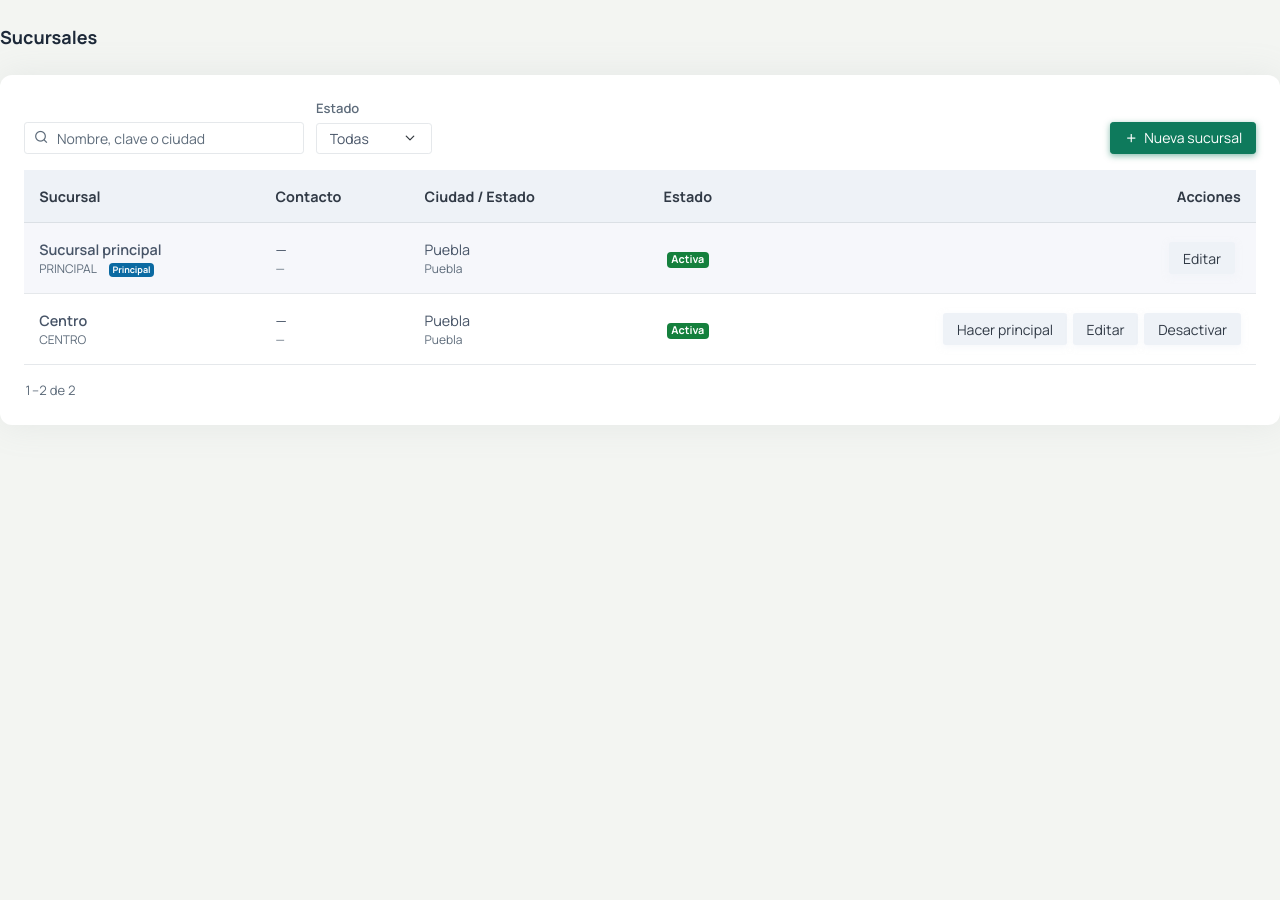
Test case: BranchesList › fills the point with where the owner stands, and says what to do when the browser does not tell (Fase 24G)
Click the button with aria-label "Editar Centro" at (1106, 329), box [1073,313,1138,345]
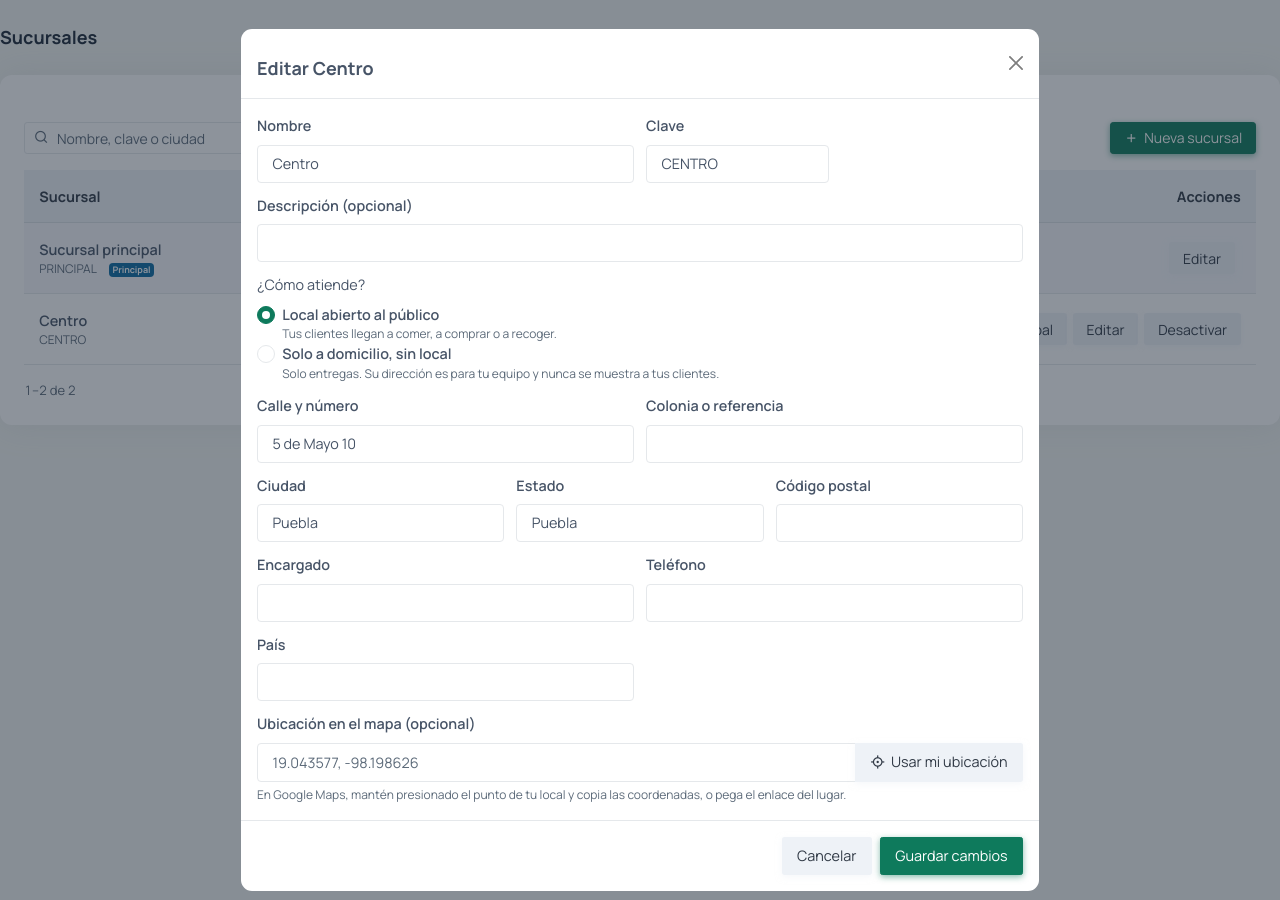
Click the button "Usar mi ubicación" at (939, 762), box [855,743,1023,782]
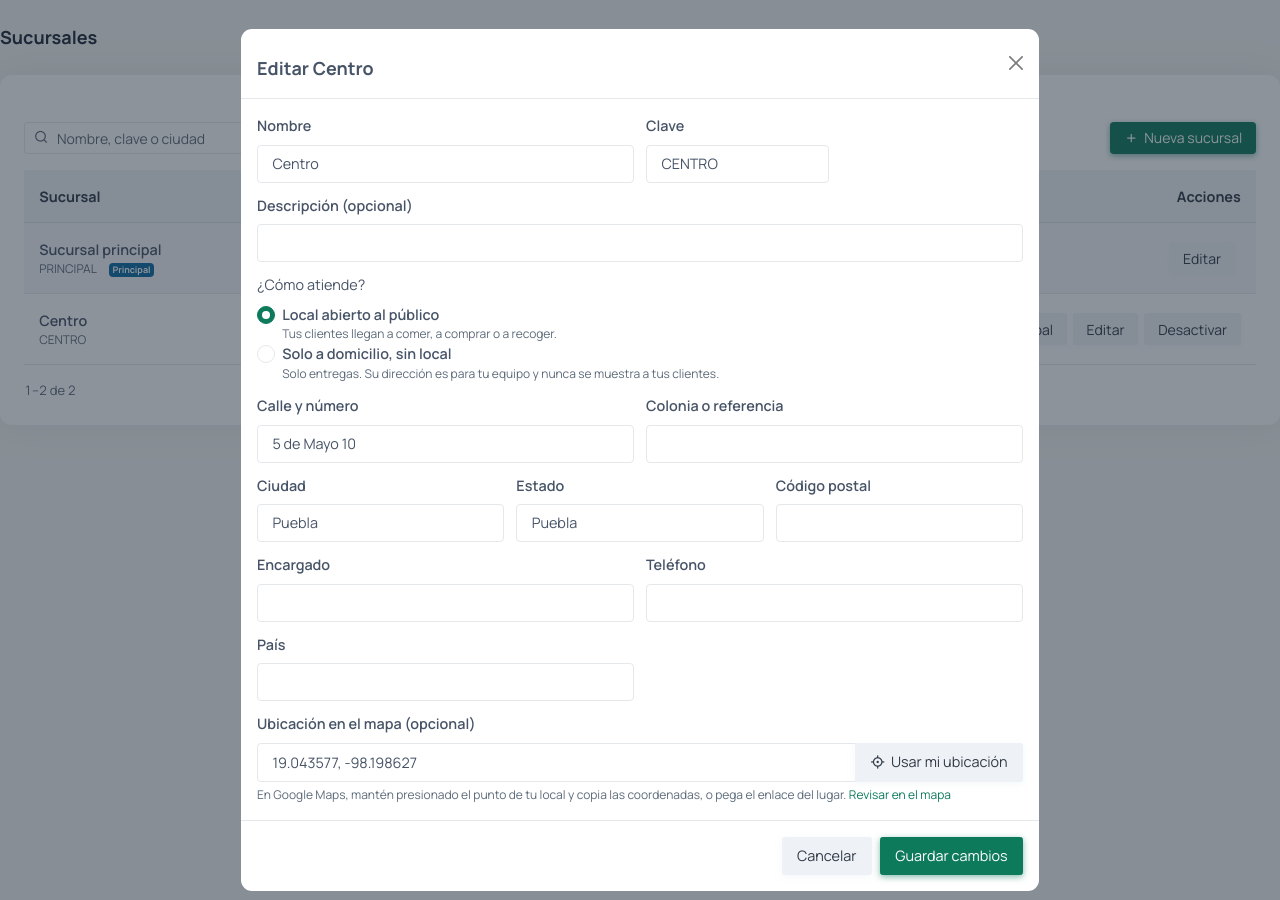
Check: the field labelled "Ubicación en el mapa (opcional)" holds "19.043577, -98.198627", box [257,743,856,782]
Click the button "Usar mi ubicación" at (939, 762), box [855,743,1023,782]
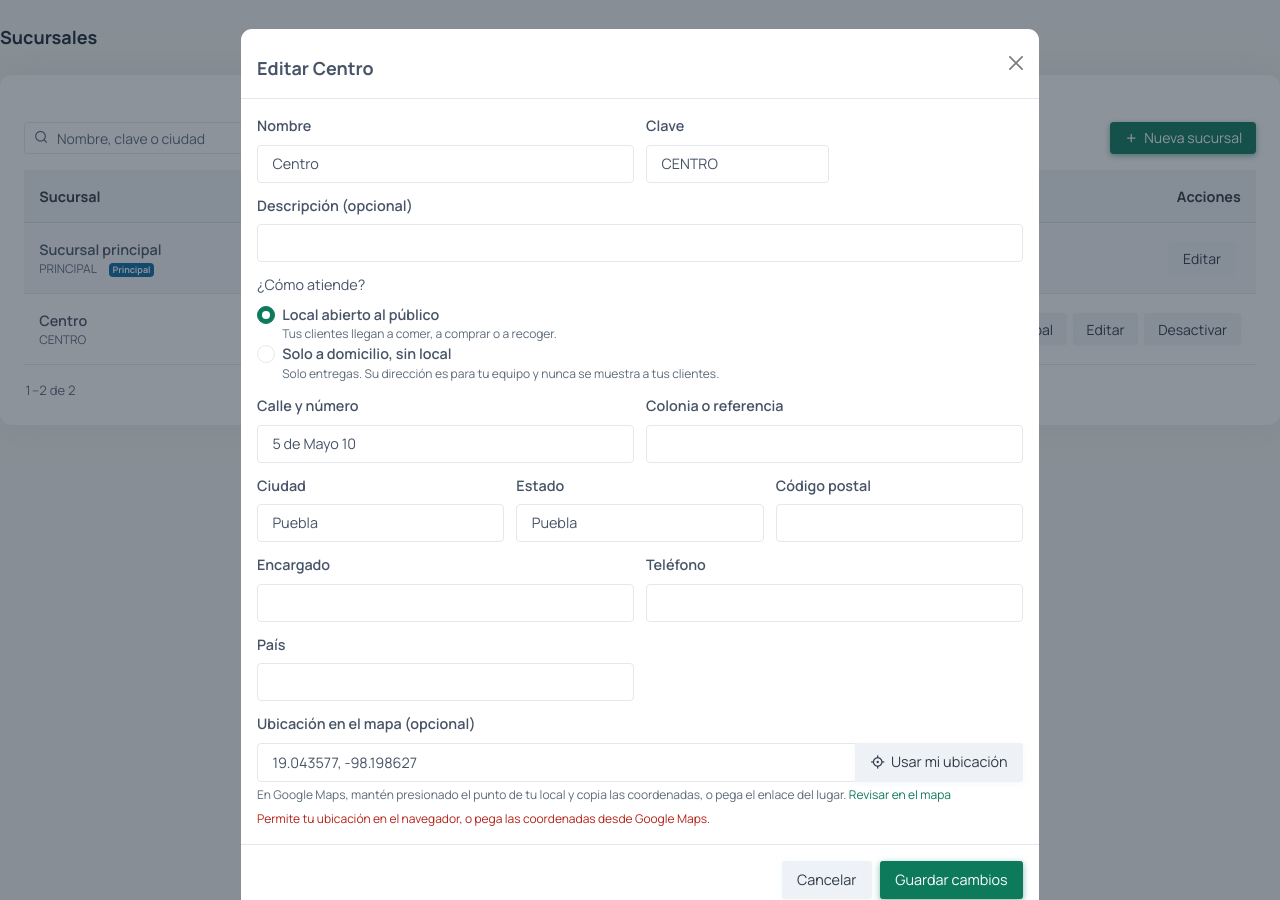
Check: the message reads "Permite tu ubicación en el navegador, o pega las coordenadas desde Google Maps.", box [257,810,710,827]
